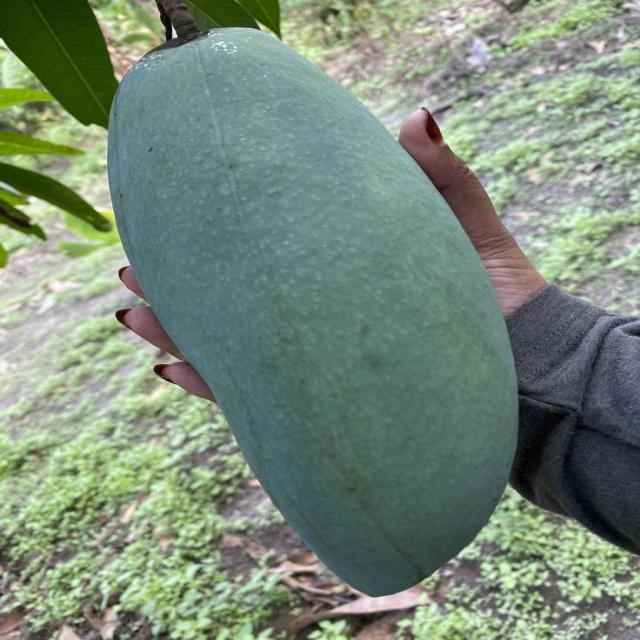mango: (108, 29, 517, 596)
